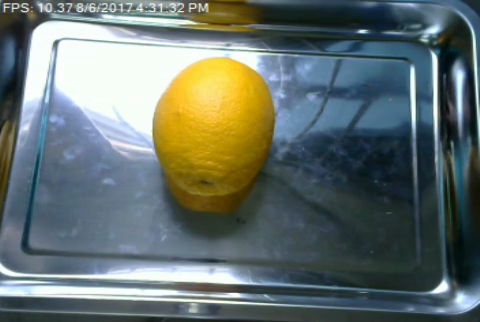Orange: (152, 56, 275, 195)
